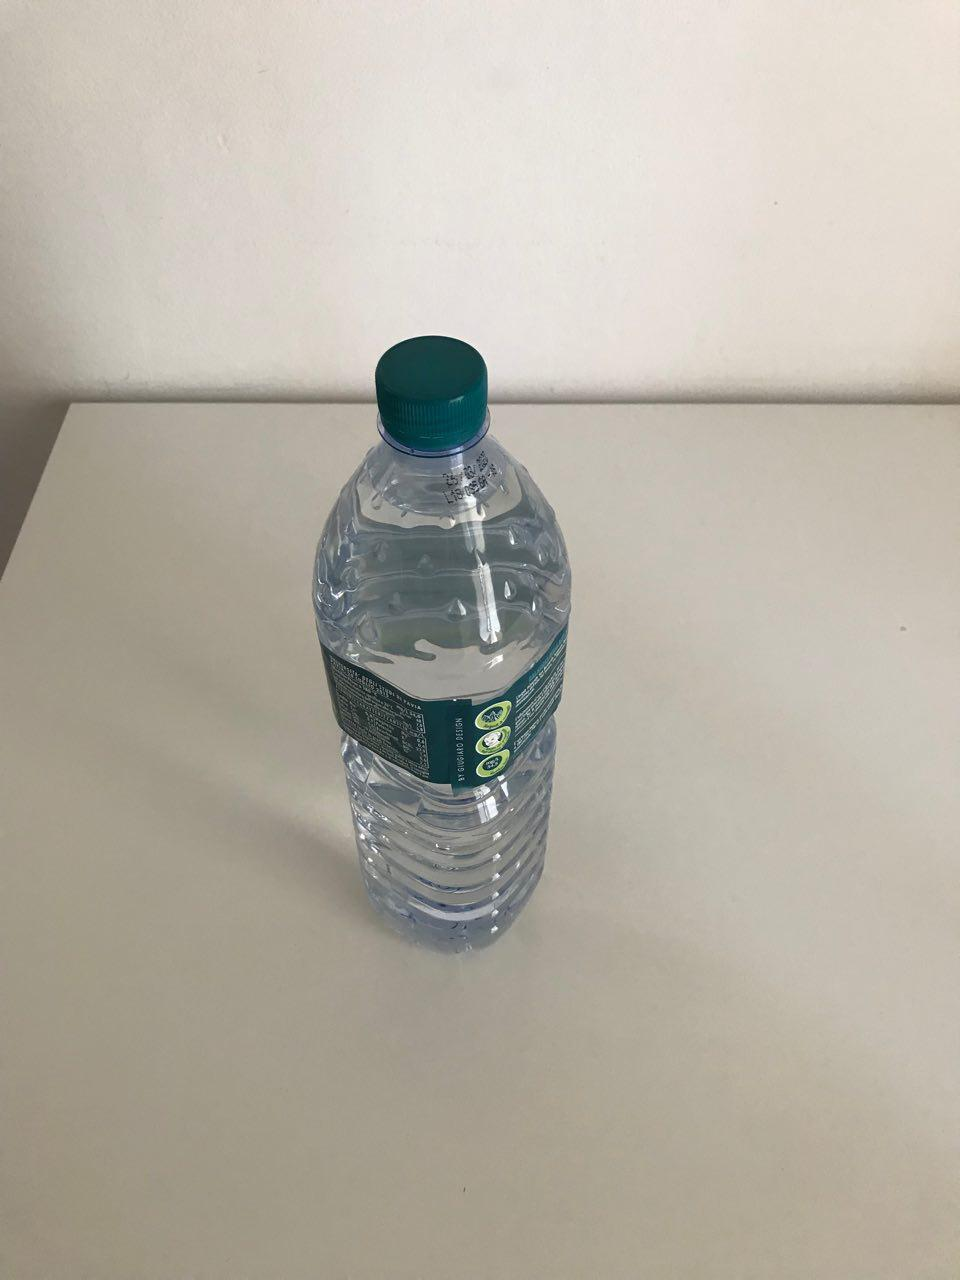san_bernardo: (312, 332, 575, 956)
